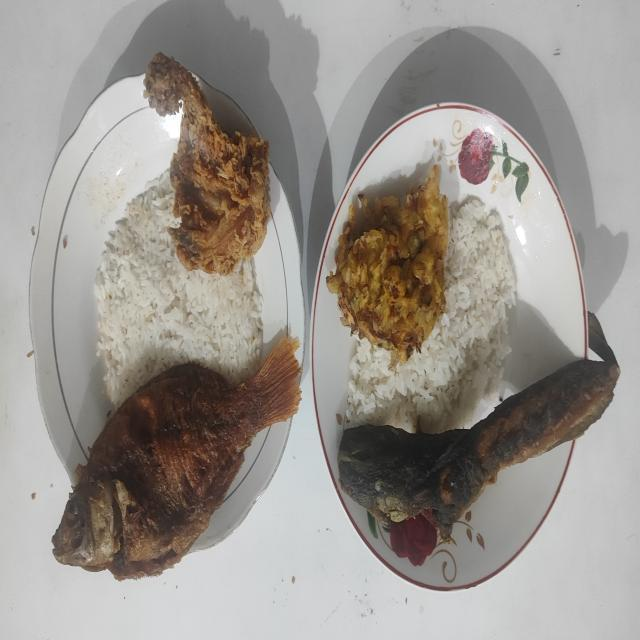ikan_mujair: (52, 340, 300, 579)
nasi_putih: (94, 172, 264, 406), (346, 197, 516, 431)
